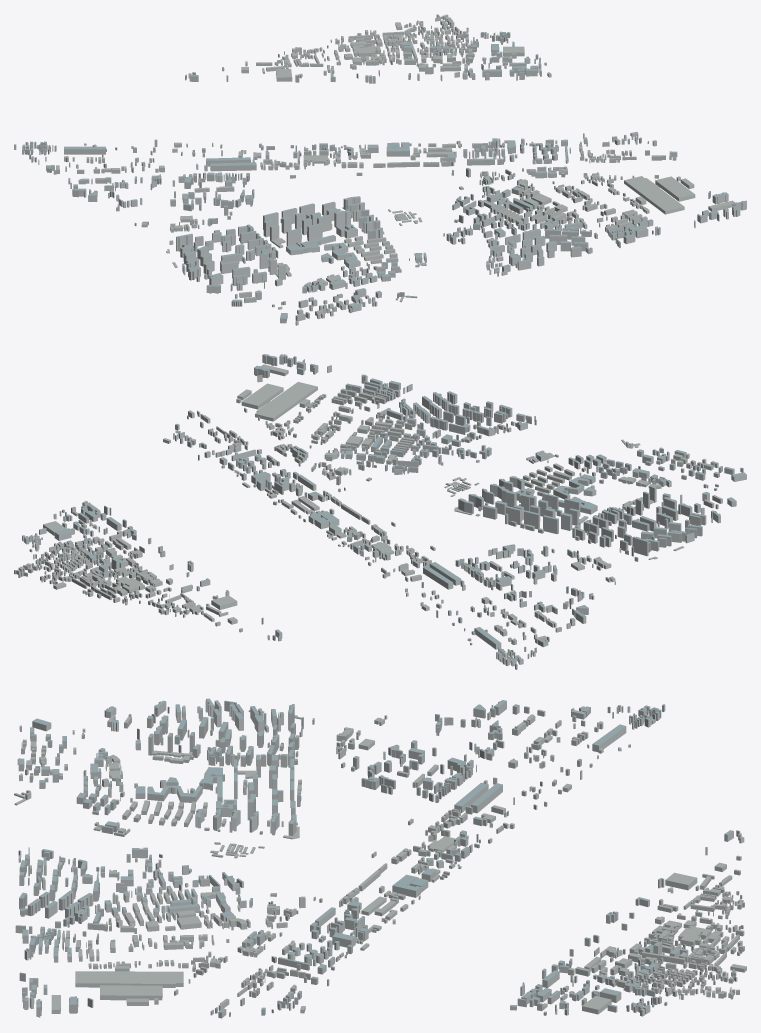
File: far.glb
3 renders of one model, top to bottom at view 1: azimuth 30°, elevation 25°; view 2: azimuth 150°, elevation 25°; view 3: azimuth 270°, elevation 25°, orthographic. The views are drawn at different scales.
Size of the model in its own units: 2122 by 57.6 by 2119.
